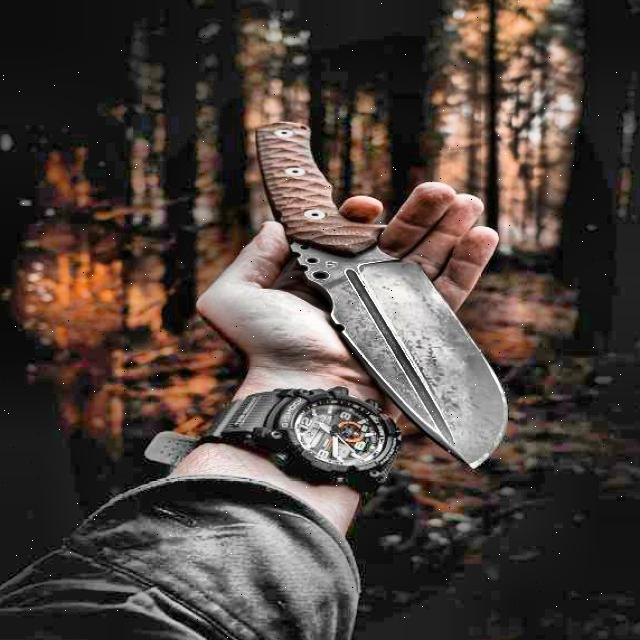knife: (241, 73, 520, 470)
